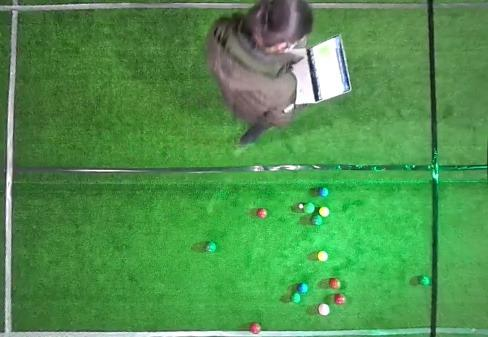blue: (297, 283, 308, 294), (318, 187, 329, 197)
green: (304, 202, 315, 214), (418, 275, 430, 286), (311, 215, 322, 226), (206, 242, 216, 253), (291, 293, 301, 303)
red: (317, 303, 330, 316), (334, 293, 346, 305), (329, 278, 341, 290), (250, 322, 261, 334), (257, 208, 267, 219)
vline: (427, 0, 487, 336), (0, 0, 19, 336)
white: (299, 204, 303, 209)
yellow: (319, 207, 329, 217), (318, 251, 328, 261)
